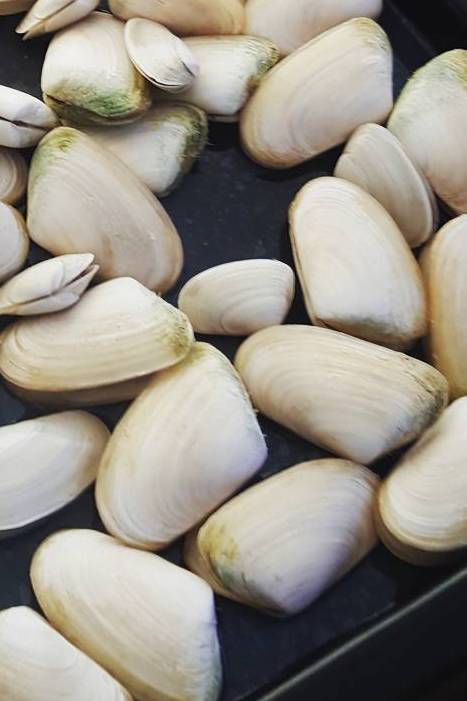tuatua: (92, 335, 267, 551), (28, 525, 230, 701), (192, 453, 385, 616), (238, 323, 450, 463), (286, 174, 436, 347), (237, 17, 396, 172), (26, 126, 182, 283), (1, 275, 196, 391), (373, 396, 467, 576), (39, 8, 151, 125), (1, 406, 110, 525), (388, 48, 467, 209), (341, 123, 440, 248), (181, 31, 283, 123), (181, 256, 295, 336), (3, 254, 98, 316), (126, 14, 201, 92)
